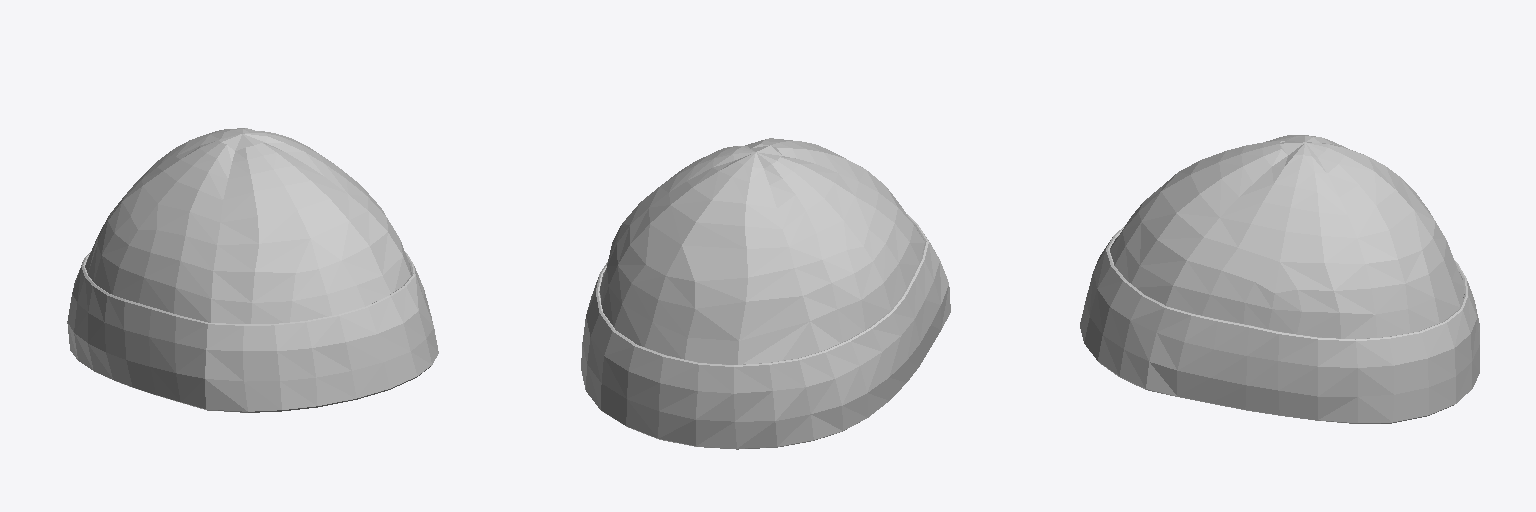
Rendered from Beanie.obj.
3 views of the same model, side by side, from view 1: azimuth 30°, elevation 25°; view 2: azimuth 150°, elevation 25°; view 3: azimuth 270°, elevation 25° (orthographic).
Parts seen in each view (by area): view 1: Beanie; view 2: Beanie; view 3: Beanie.
Boxes of the visible parts, x1,y1,x2,y2 form: Beanie: [67, 128, 438, 412]; Beanie: [581, 138, 950, 449]; Beanie: [1080, 135, 1479, 423].
Bounding box in the file's own units: 18.42 × 13.77 × 22.07.